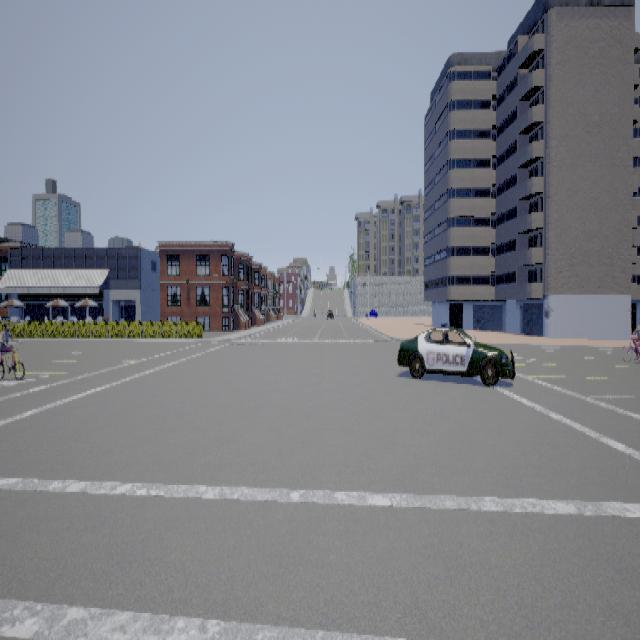bike: (0, 322, 29, 382), (621, 315, 639, 367)
vehicle: (396, 322, 515, 386)
